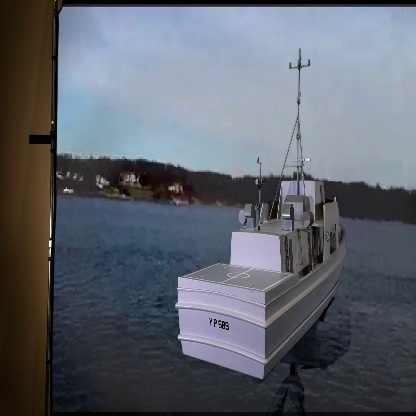YP689: (175, 49, 348, 379)
